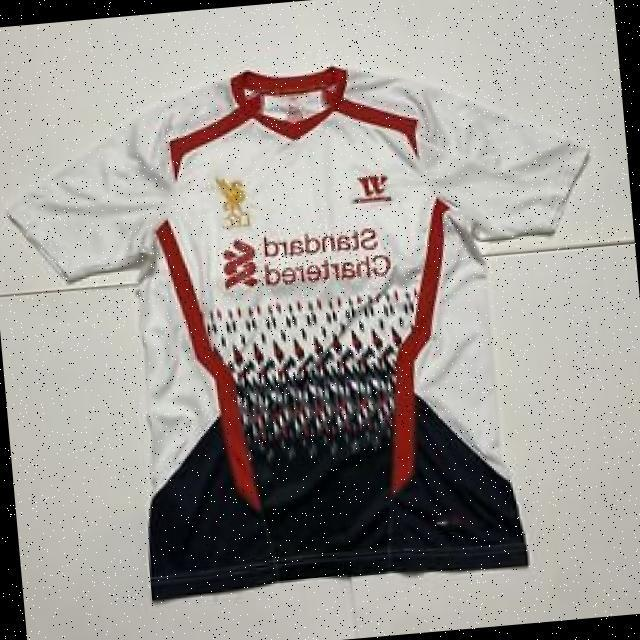Standard Chartered: (218, 226, 394, 292)
